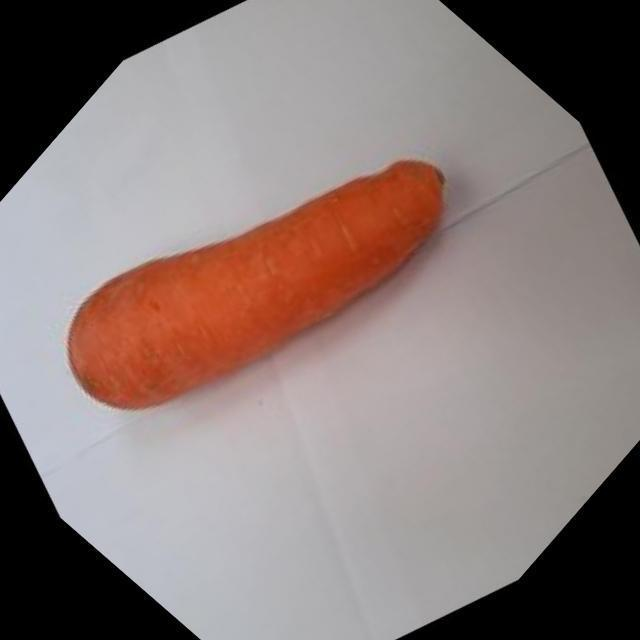Carrot: (69, 161, 442, 408)
